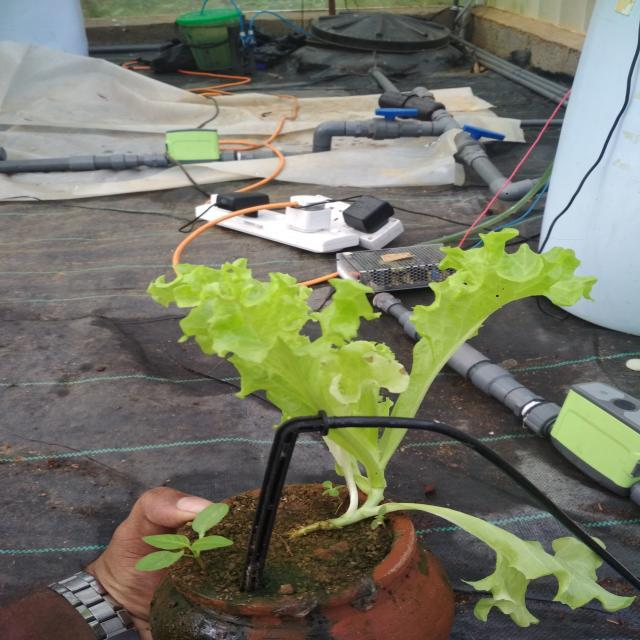Lettuce-Not-Ready-to-Harvest: (150, 230, 620, 626)
